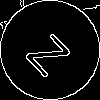Z: (25, 25, 79, 79)
